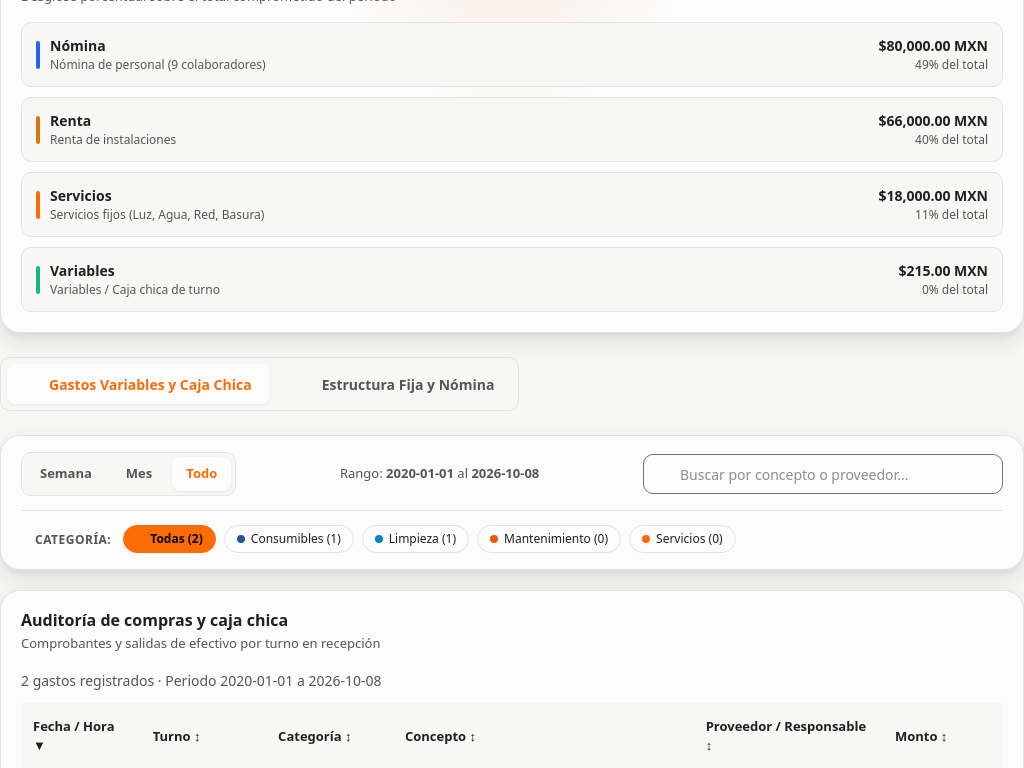
Scenario: ExpenseReport component › opens "Ajustar costos fijos" modal and updates KPIs upon submitting changes
(page scrolled)
// Go to Fixed Structure tab
Click the tab "Estructura Fija y Nómina": (396, 384) [280, 364, 512, 404]
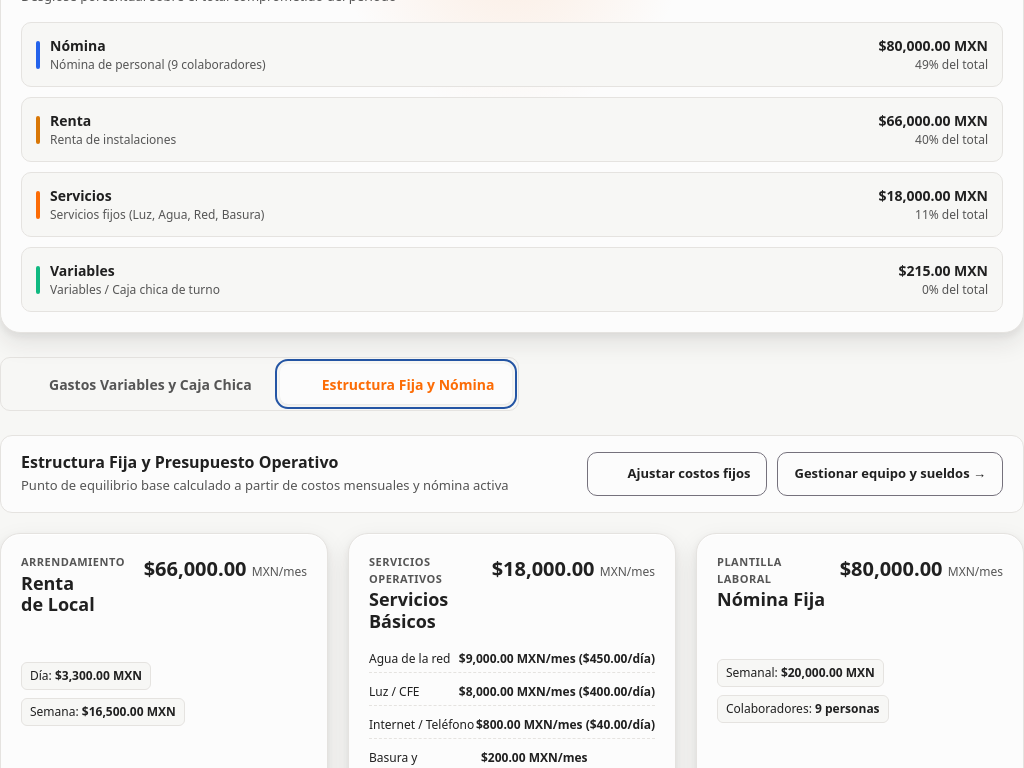
Expected: the button "Ajustar costos fijos" is shown
Click the button "Ajustar costos fijos": (677, 474) [587, 452, 768, 496]
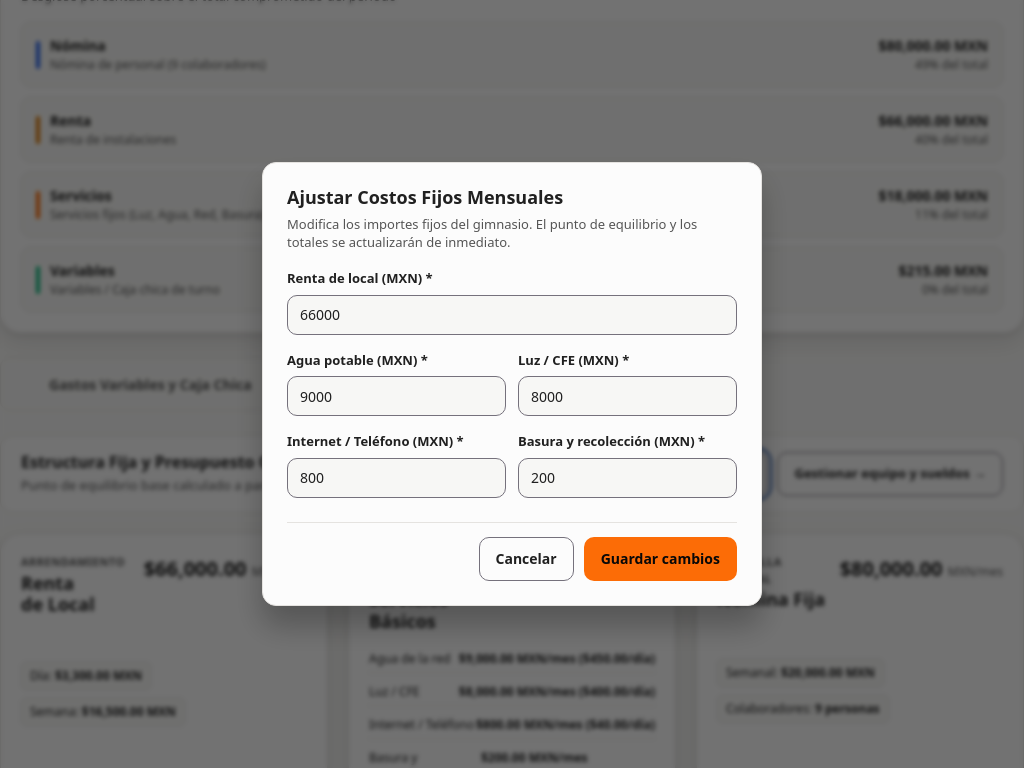
Expected: the dialog is shown
Expected: the heading "Ajustar Costos Fijos Mensuales" is shown, [287, 185, 563, 209]
Expected: the number field labelled "Renta de local (MXN) *" holds "66000"
// Update Renta to 70000
In the number field labelled "Renta de local (MXN) *": (512, 315) [287, 295, 737, 335], type "70000"
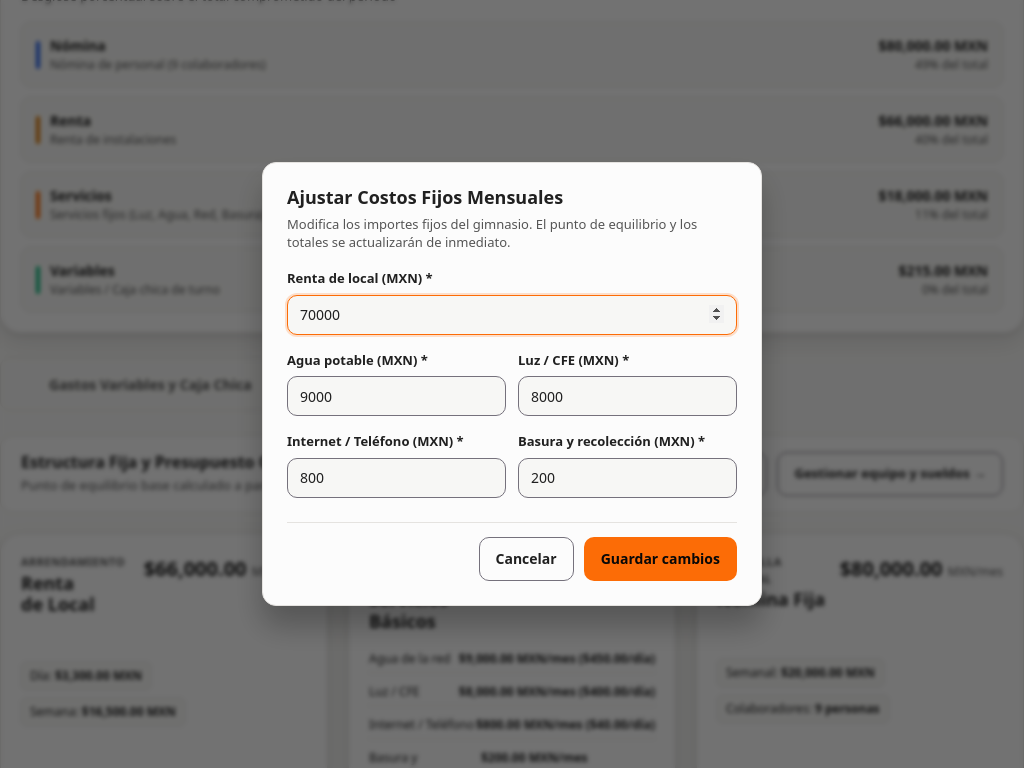
// Save changes
Click the button "Guardar cambios": (660, 559) [584, 537, 737, 581]
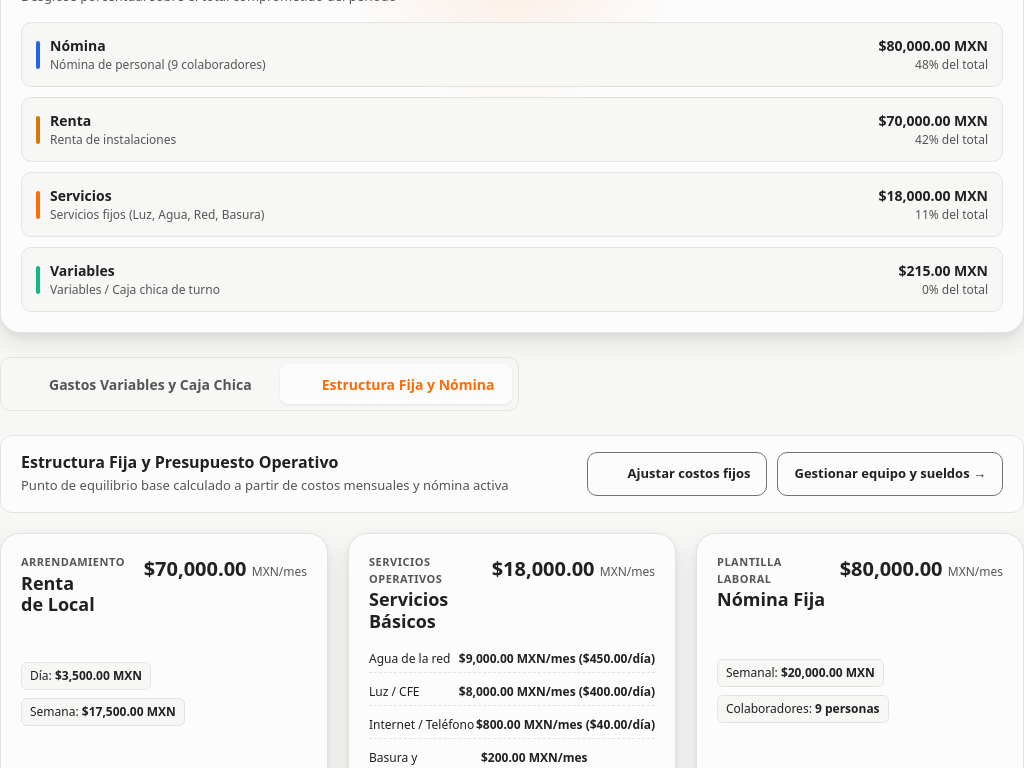
Expected: the dialog is gone
Expected: the text "$70,000.00 MXN" is shown, [878, 110, 988, 131]
